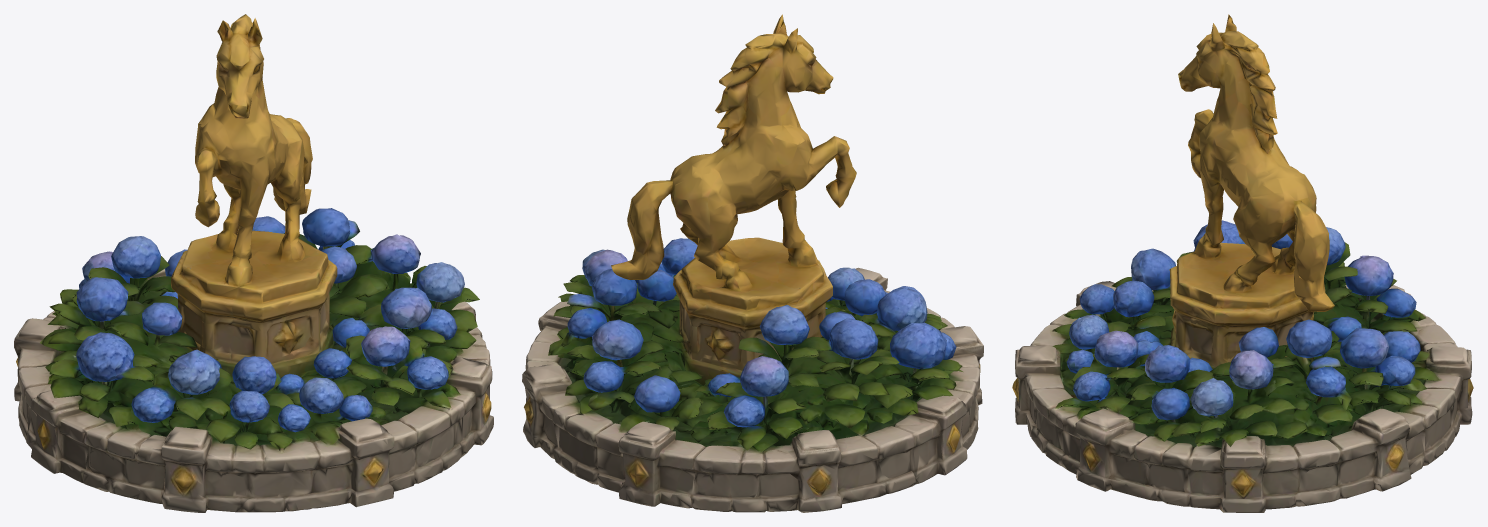
The model's file is golden_horse_statue.glb.
The picture shows the model from 3 angles, left to right: view 1: azimuth 30°, elevation 25°; view 2: azimuth 150°, elevation 25°; view 3: azimuth 270°, elevation 25°; orthographic projection. The views are drawn at different scales.
Parts seen in each view (by area): view 1: tripo_node_8c014163-364e-4d1c-bced-8f004d0a7065; view 2: tripo_node_8c014163-364e-4d1c-bced-8f004d0a7065; view 3: tripo_node_8c014163-364e-4d1c-bced-8f004d0a7065.
Boxes of the visible parts, x1,y1,x2,y2 form: tripo_node_8c014163-364e-4d1c-bced-8f004d0a7065: [14, 14, 493, 512]; tripo_node_8c014163-364e-4d1c-bced-8f004d0a7065: [522, 14, 983, 512]; tripo_node_8c014163-364e-4d1c-bced-8f004d0a7065: [1012, 14, 1473, 512].
Size of the model in its own units: 0.9782 by 0.8993 by 0.9721.
Materials: 1 (1 with a texture image).
